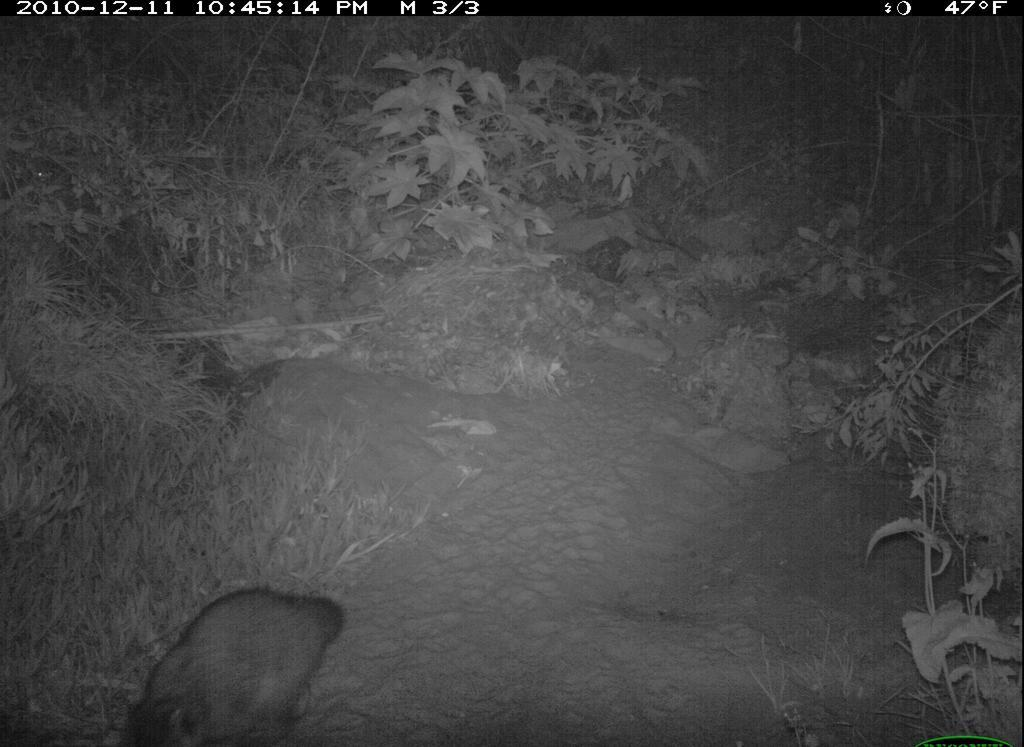raccoon: (100, 580, 368, 747)
